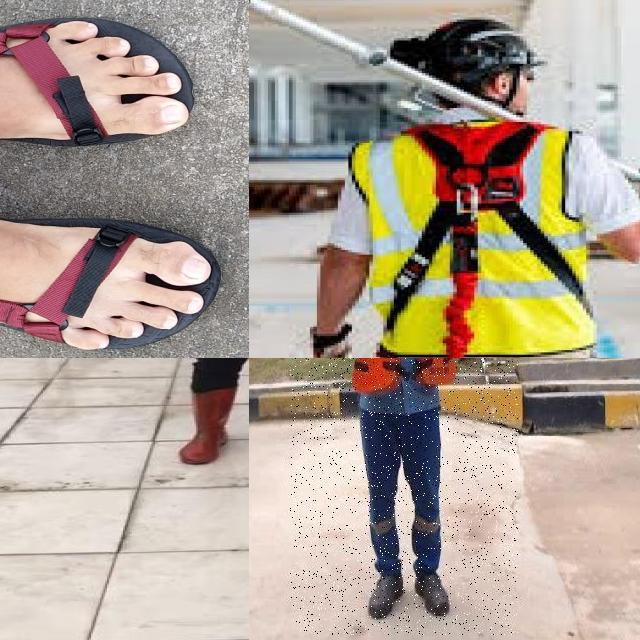Harness: (385, 122, 589, 332)
Sandals: (0, 190, 219, 351), (0, 17, 191, 156)
boots: (176, 388, 234, 465), (412, 565, 452, 619), (368, 567, 405, 621)
person: (290, 358, 518, 635)
vest: (351, 358, 456, 391)
